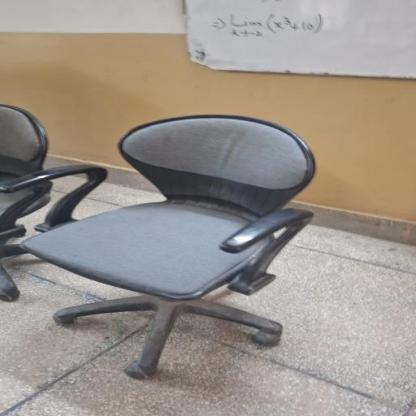chair: (25, 102, 324, 378)
